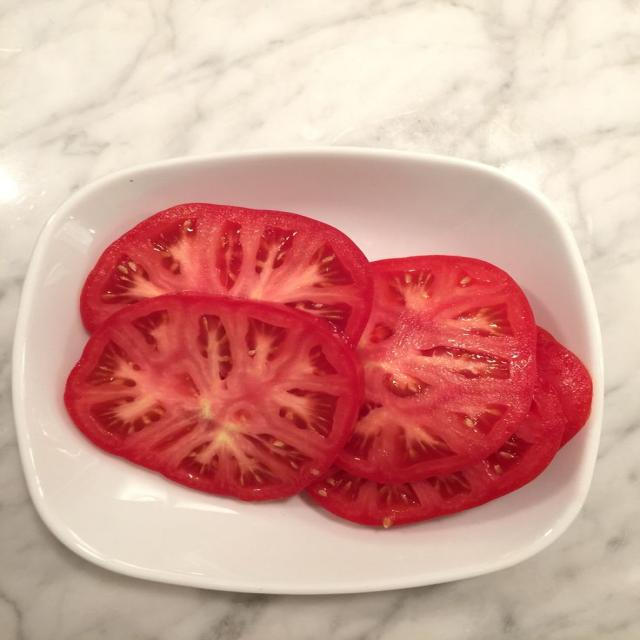sliced tomatoe: (65, 293, 361, 500), (337, 256, 535, 482), (81, 204, 372, 341), (307, 380, 566, 527), (538, 327, 593, 445)
